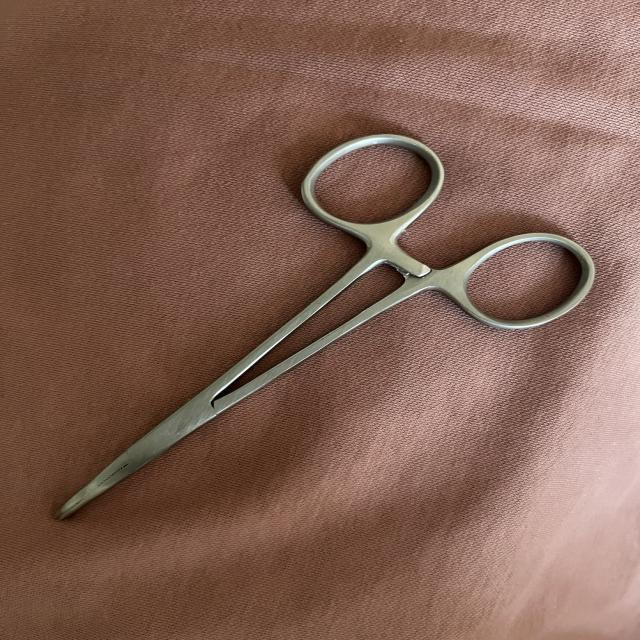scissor: (44, 126, 604, 564)
